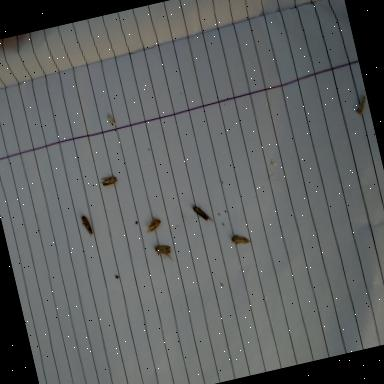pbw: (190, 200, 215, 226), (151, 238, 175, 264), (228, 230, 252, 248), (354, 90, 370, 116), (144, 216, 164, 236), (80, 213, 94, 238), (98, 174, 119, 188)
